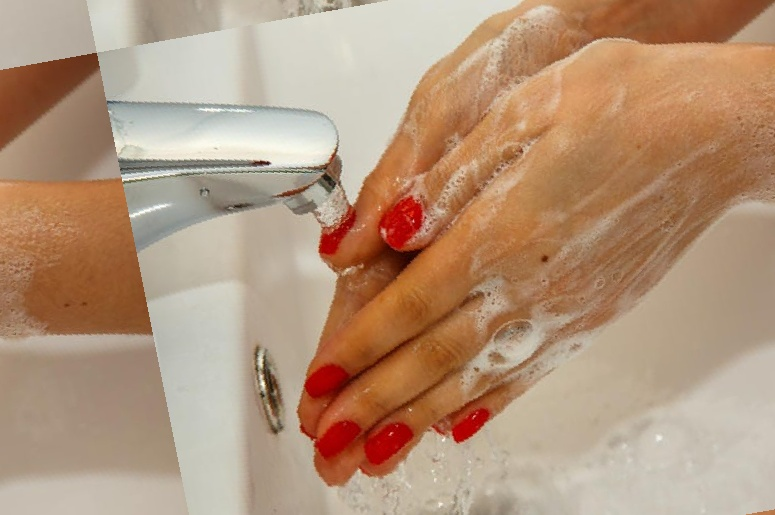washing hand: (158, 0, 774, 514)
